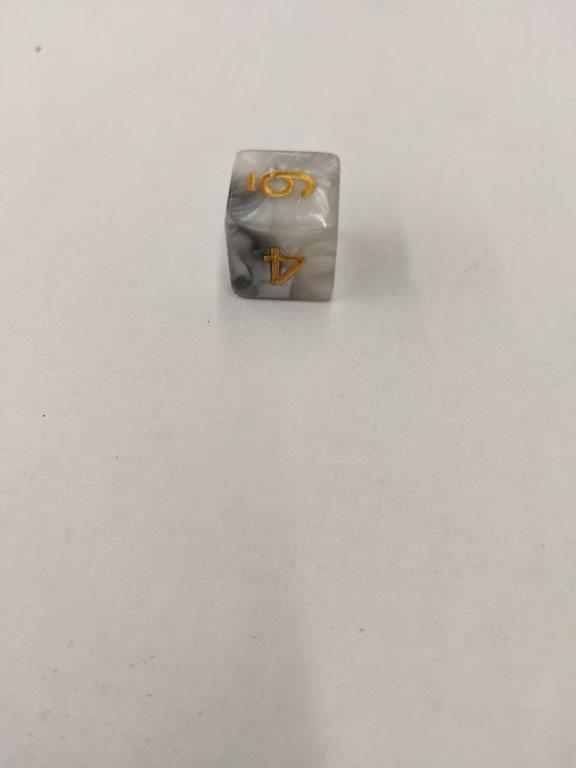d6-6: (224, 146, 342, 309)
